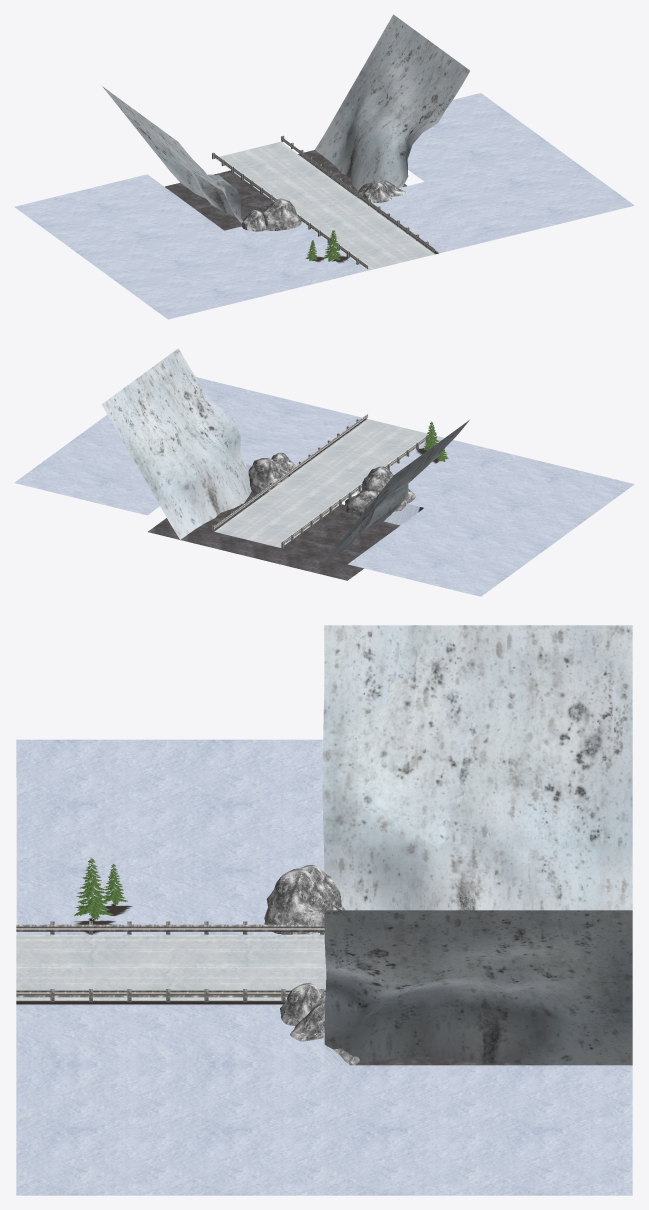
File: scene6_end.FBX
3 views of the same model, one above another, from view 1: azimuth 30°, elevation 25°; view 2: azimuth 150°, elevation 25°; view 3: azimuth 270°, elevation 25° (orthographic). The views are drawn at different scales.
Parts seen in each view (by area): view 1: scene6_end, Box034, road012, Box035; view 2: scene6_end, Box034, road012; view 3: scene6_end, Box034, road012, Box035.
Part boxes in pixels (box(x1,y1,x2,y2)): scene6_end: box(14, 93, 634, 319); Box034: box(102, 14, 469, 231); road012: box(212, 135, 434, 270); Box035: box(305, 230, 340, 261); scene6_end: box(14, 377, 634, 596); Box034: box(101, 348, 469, 571); road012: box(212, 414, 434, 548); scene6_end: box(16, 739, 632, 1195); Box034: box(264, 625, 632, 1065); road012: box(16, 921, 326, 1002); Box035: box(73, 857, 127, 920).
Size of the model in its own units: 140 by 35.68 by 80.
